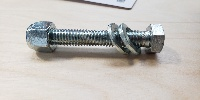FinishedAssembly: (22, 16, 168, 61)
